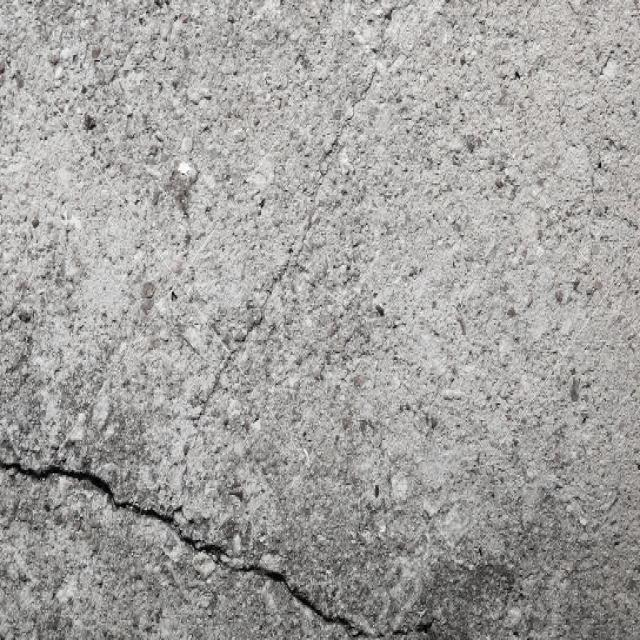Diagonal: (0, 425, 377, 634)
